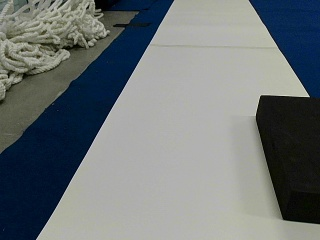block: (257, 93, 318, 225)
